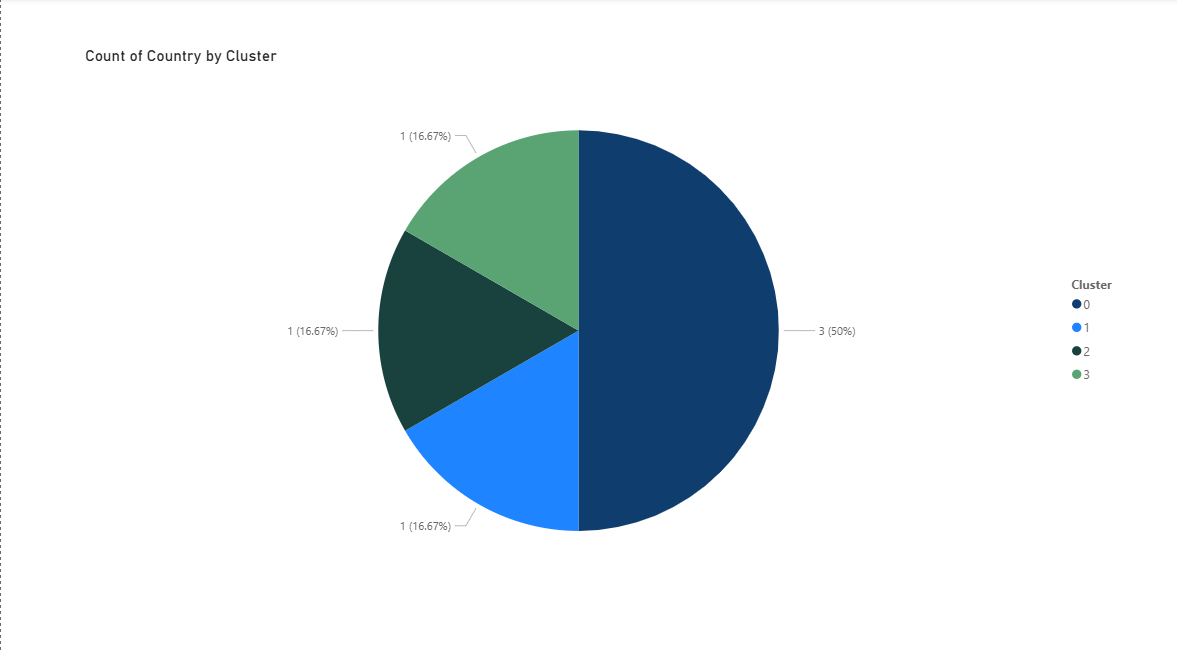

The page's visual inventory and layout, read from the dashboard file:
{"tool":"powerbi","page":{"name":"Page 2","canvas":[1280,720],"ordinal":1},"visuals":[{"type":"pieChart","fields":{"Category":["out_of_school_clusters_2015.Cluster"],"Y":["CountNonNull(out_of_school_clusters_2015.Country)"]},"box":[85,52.9,1137.6,593.4],"z":0}]}

Visuals, with their boxes in screenshot pixels (x1, y1, x2, y2), scaled from the page's 1280x720 canvas onto the 1177x651 screenshot:
pieChart - out_of_school_clusters_2015.Cluster x CountNonNull(out_of_school_clusters_2015.Country): (left=78, top=48, right=1124, bottom=584)
